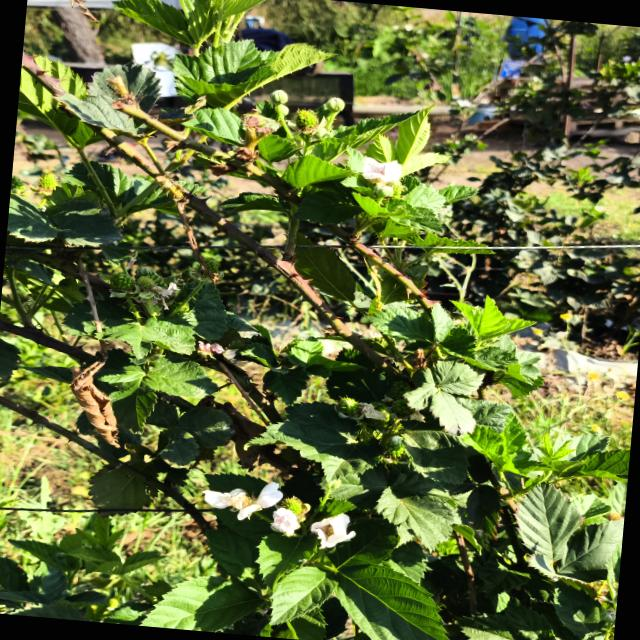boton: (324, 97, 344, 112), (373, 184, 393, 199), (269, 89, 288, 104), (276, 104, 289, 117)
flor: (202, 482, 282, 520), (310, 514, 355, 548), (361, 156, 401, 184), (271, 507, 300, 535)
